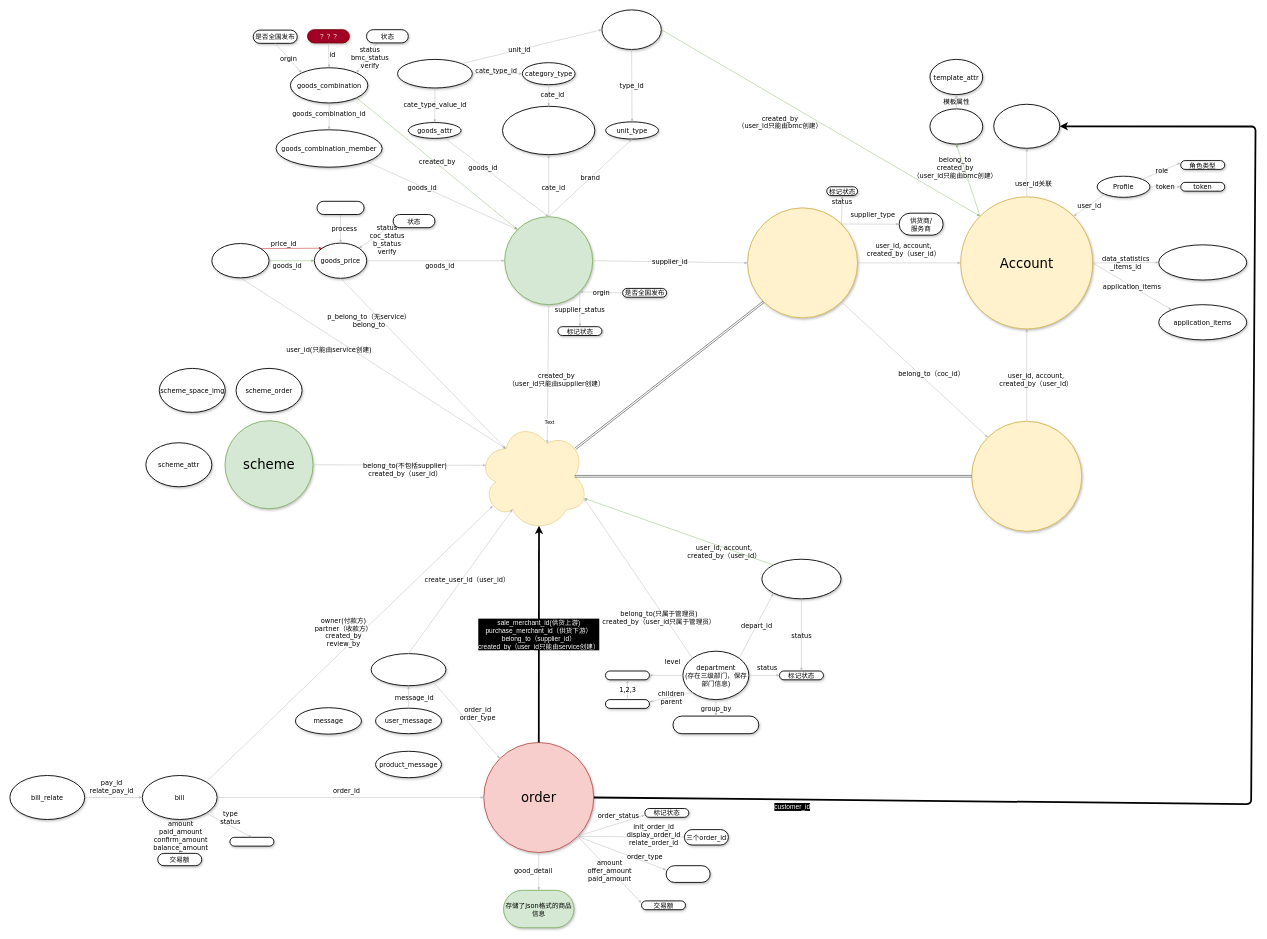
This 1267x939 diagram has some shape labels left out. The centre of each missing label's shape, as x and y in pixels:
"category (用于材料分类，大类和小类存储在一起，通过parent自关联实现分类)" goes at pixel 549 131.
"category_type_value" goes at pixel 435 74.
"coc/bmc" goes at pixel 1027 477.
"customer客户信息" goes at pixel 1027 127.
"data_statistics_items" goes at pixel 1203 262.
"department_member" goes at pixel 801 579.
"goods" goes at pixel 549 261.
"shopping_trolley" goes at pixel 240 261.
"supplier" goes at pixel 802 263.
"template" goes at pixel 957 126.
"unit" goes at pixel 632 30.
"user_order_message" goes at pixel 409 670.
"保存当前角色" goes at pixel 341 208.
"最多存在3级" goes at pixel 627 676.
"状态和类型" goes at pixel 252 842.
"聚合bmc/coc/service /supplier四种角色" goes at pixel 533 476.
"部门上下级" goes at pixel 627 704.
"部门类型（coc，bmc..）" goes at pixel 716 725.
"预购，销售， 采购订单" goes at pixel 688 874.
